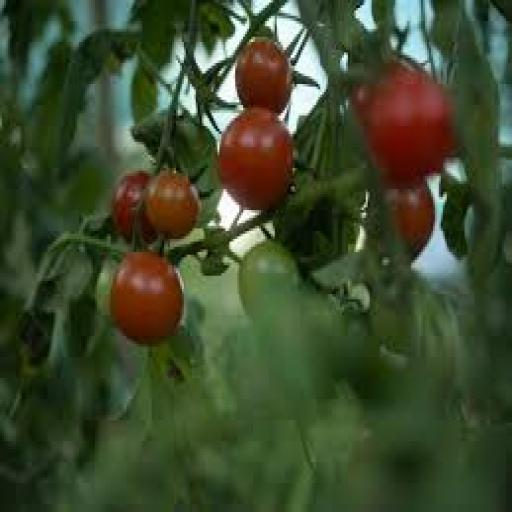tomato: (362, 64, 456, 186), (220, 108, 292, 210), (111, 253, 183, 346), (238, 242, 300, 317), (236, 40, 292, 112), (145, 171, 199, 238), (386, 182, 434, 257), (111, 171, 156, 244), (95, 260, 116, 317), (350, 85, 371, 126)
